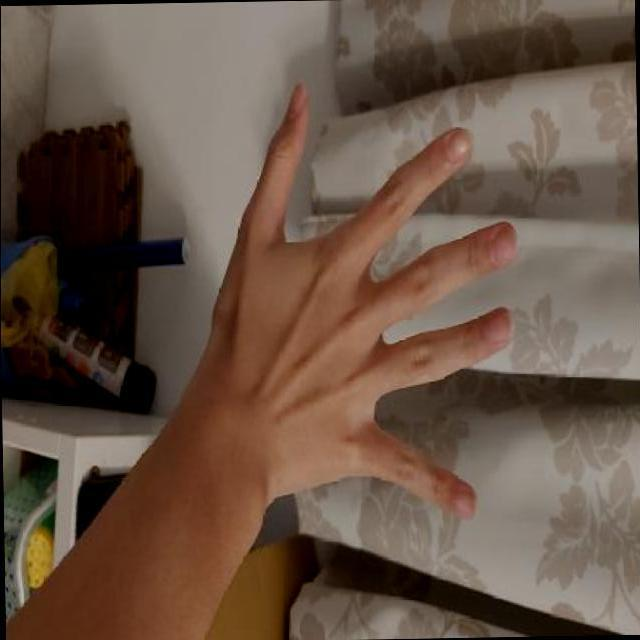hand: (189, 62, 534, 543)
